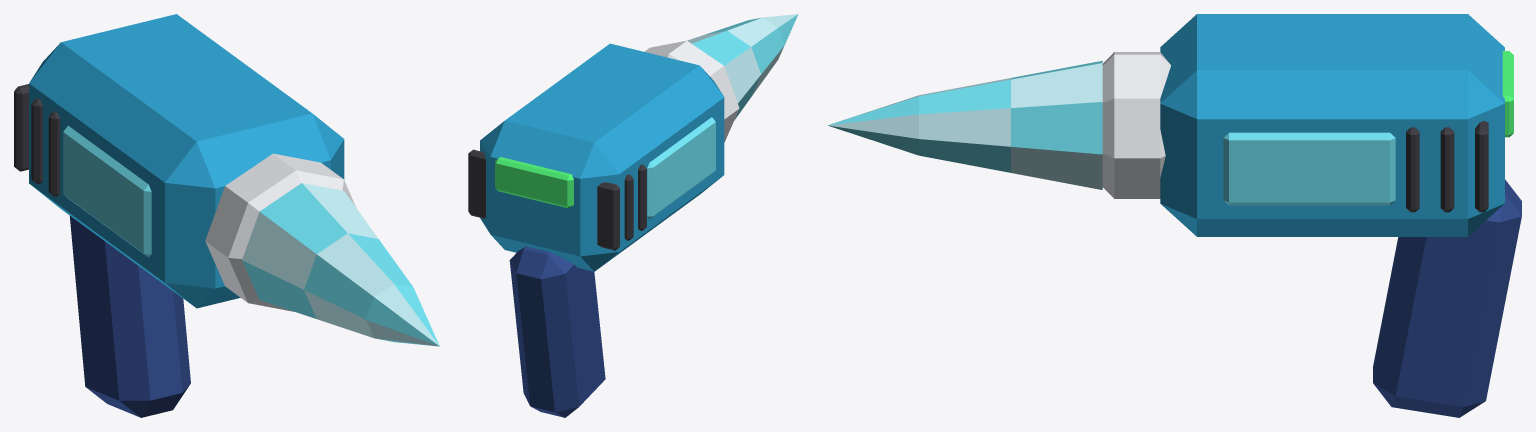
The model's file is DiamondDrill.fbx.
3 views of the same model, side by side, from view 1: azimuth 30°, elevation 25°; view 2: azimuth 150°, elevation 25°; view 3: azimuth 270°, elevation 25° (orthographic). The views are drawn at different scales.
Visible parts, largest first — view 1: DiamondDrill; view 2: DiamondDrill; view 3: DiamondDrill.
Part boxes in pixels (<box>): DiamondDrill: <box>14,14,439,417</box>; DiamondDrill: <box>468,14,798,417</box>; DiamondDrill: <box>827,14,1521,417</box>.
Size of the model in its own units: 0.97 by 1.77 by 3.02.
1 material, 1 textured.
